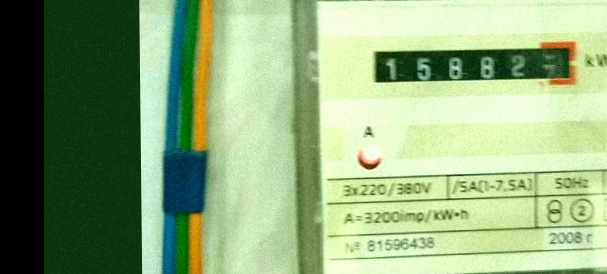1: (385, 56, 399, 81)
2: (511, 51, 527, 78)
5: (416, 55, 432, 81)
7: (542, 61, 556, 77)
8: (447, 55, 464, 79), (479, 53, 495, 78)
screen: (361, 34, 587, 96)
